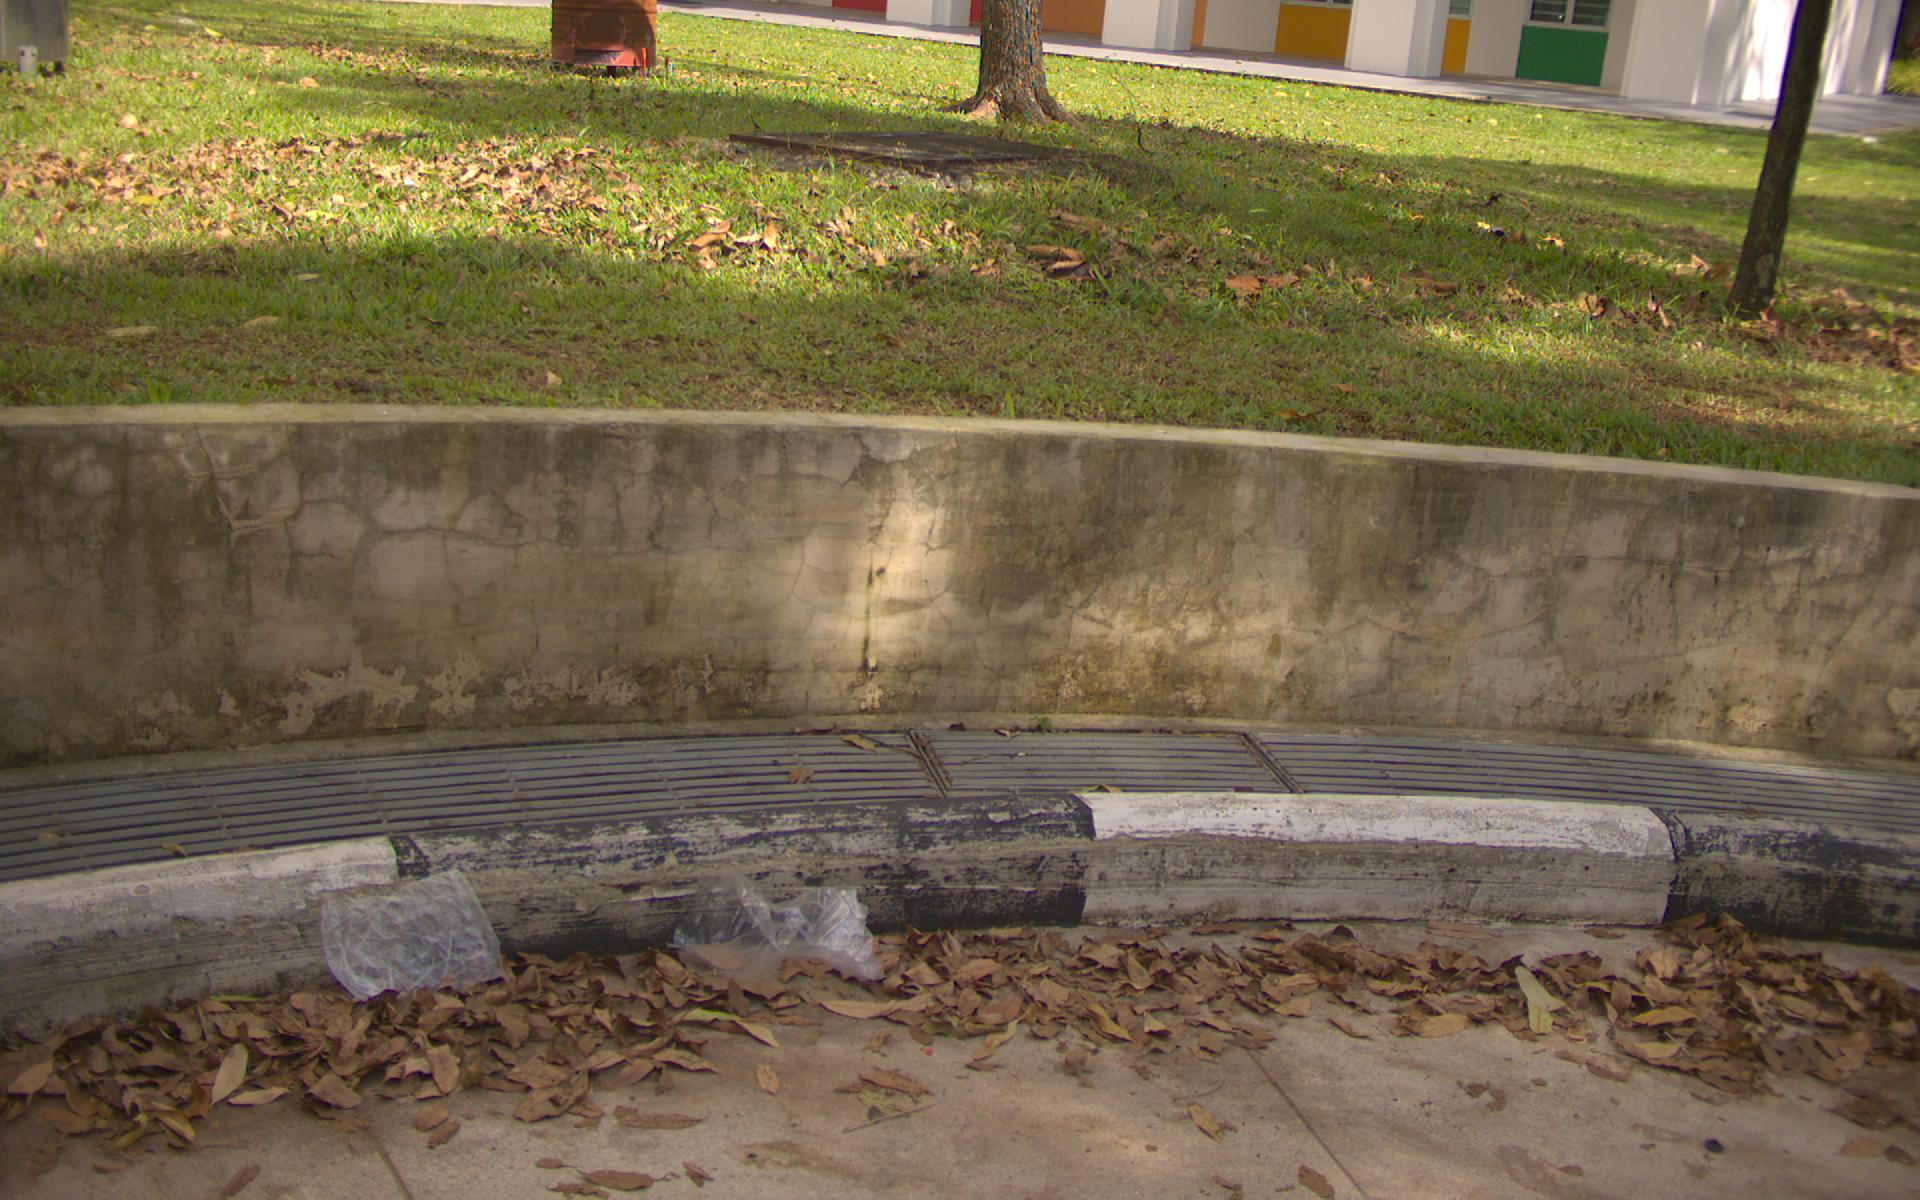curb_dic_low: (95, 734, 1920, 818)
road_curb_medium: (250, 940, 1920, 1200)
road_turf_low: (6, 95, 1920, 413)
